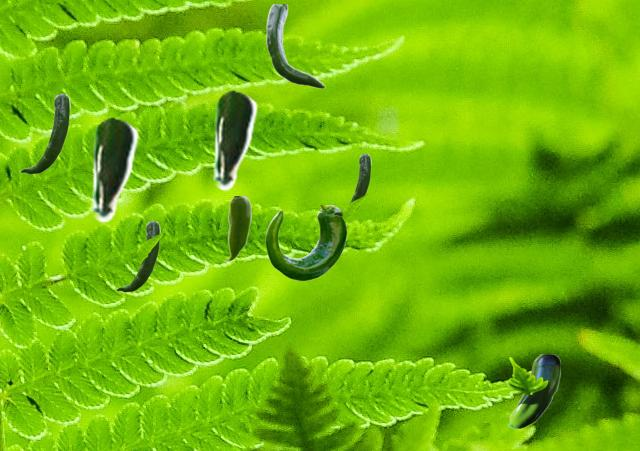green_chili: (265, 205, 346, 279), (88, 116, 138, 222), (266, 4, 324, 87), (210, 89, 257, 190), (20, 94, 69, 173), (507, 354, 559, 428), (116, 221, 159, 291), (333, 154, 370, 215), (224, 196, 250, 261)
